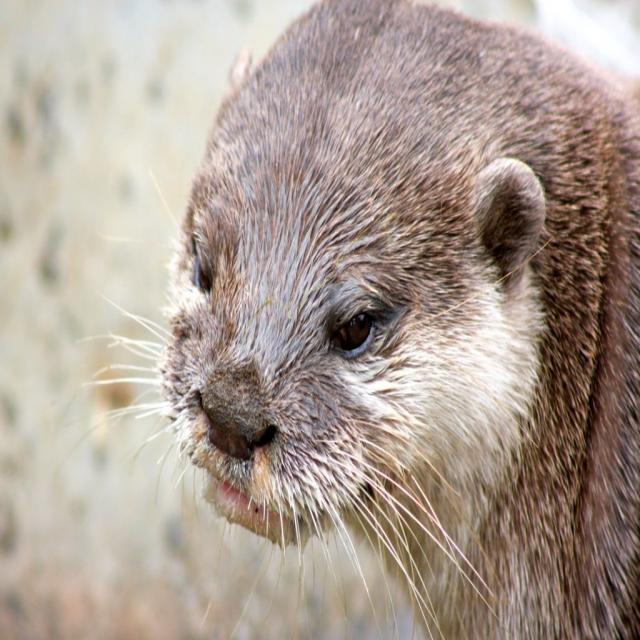otter: (167, 2, 640, 640)
